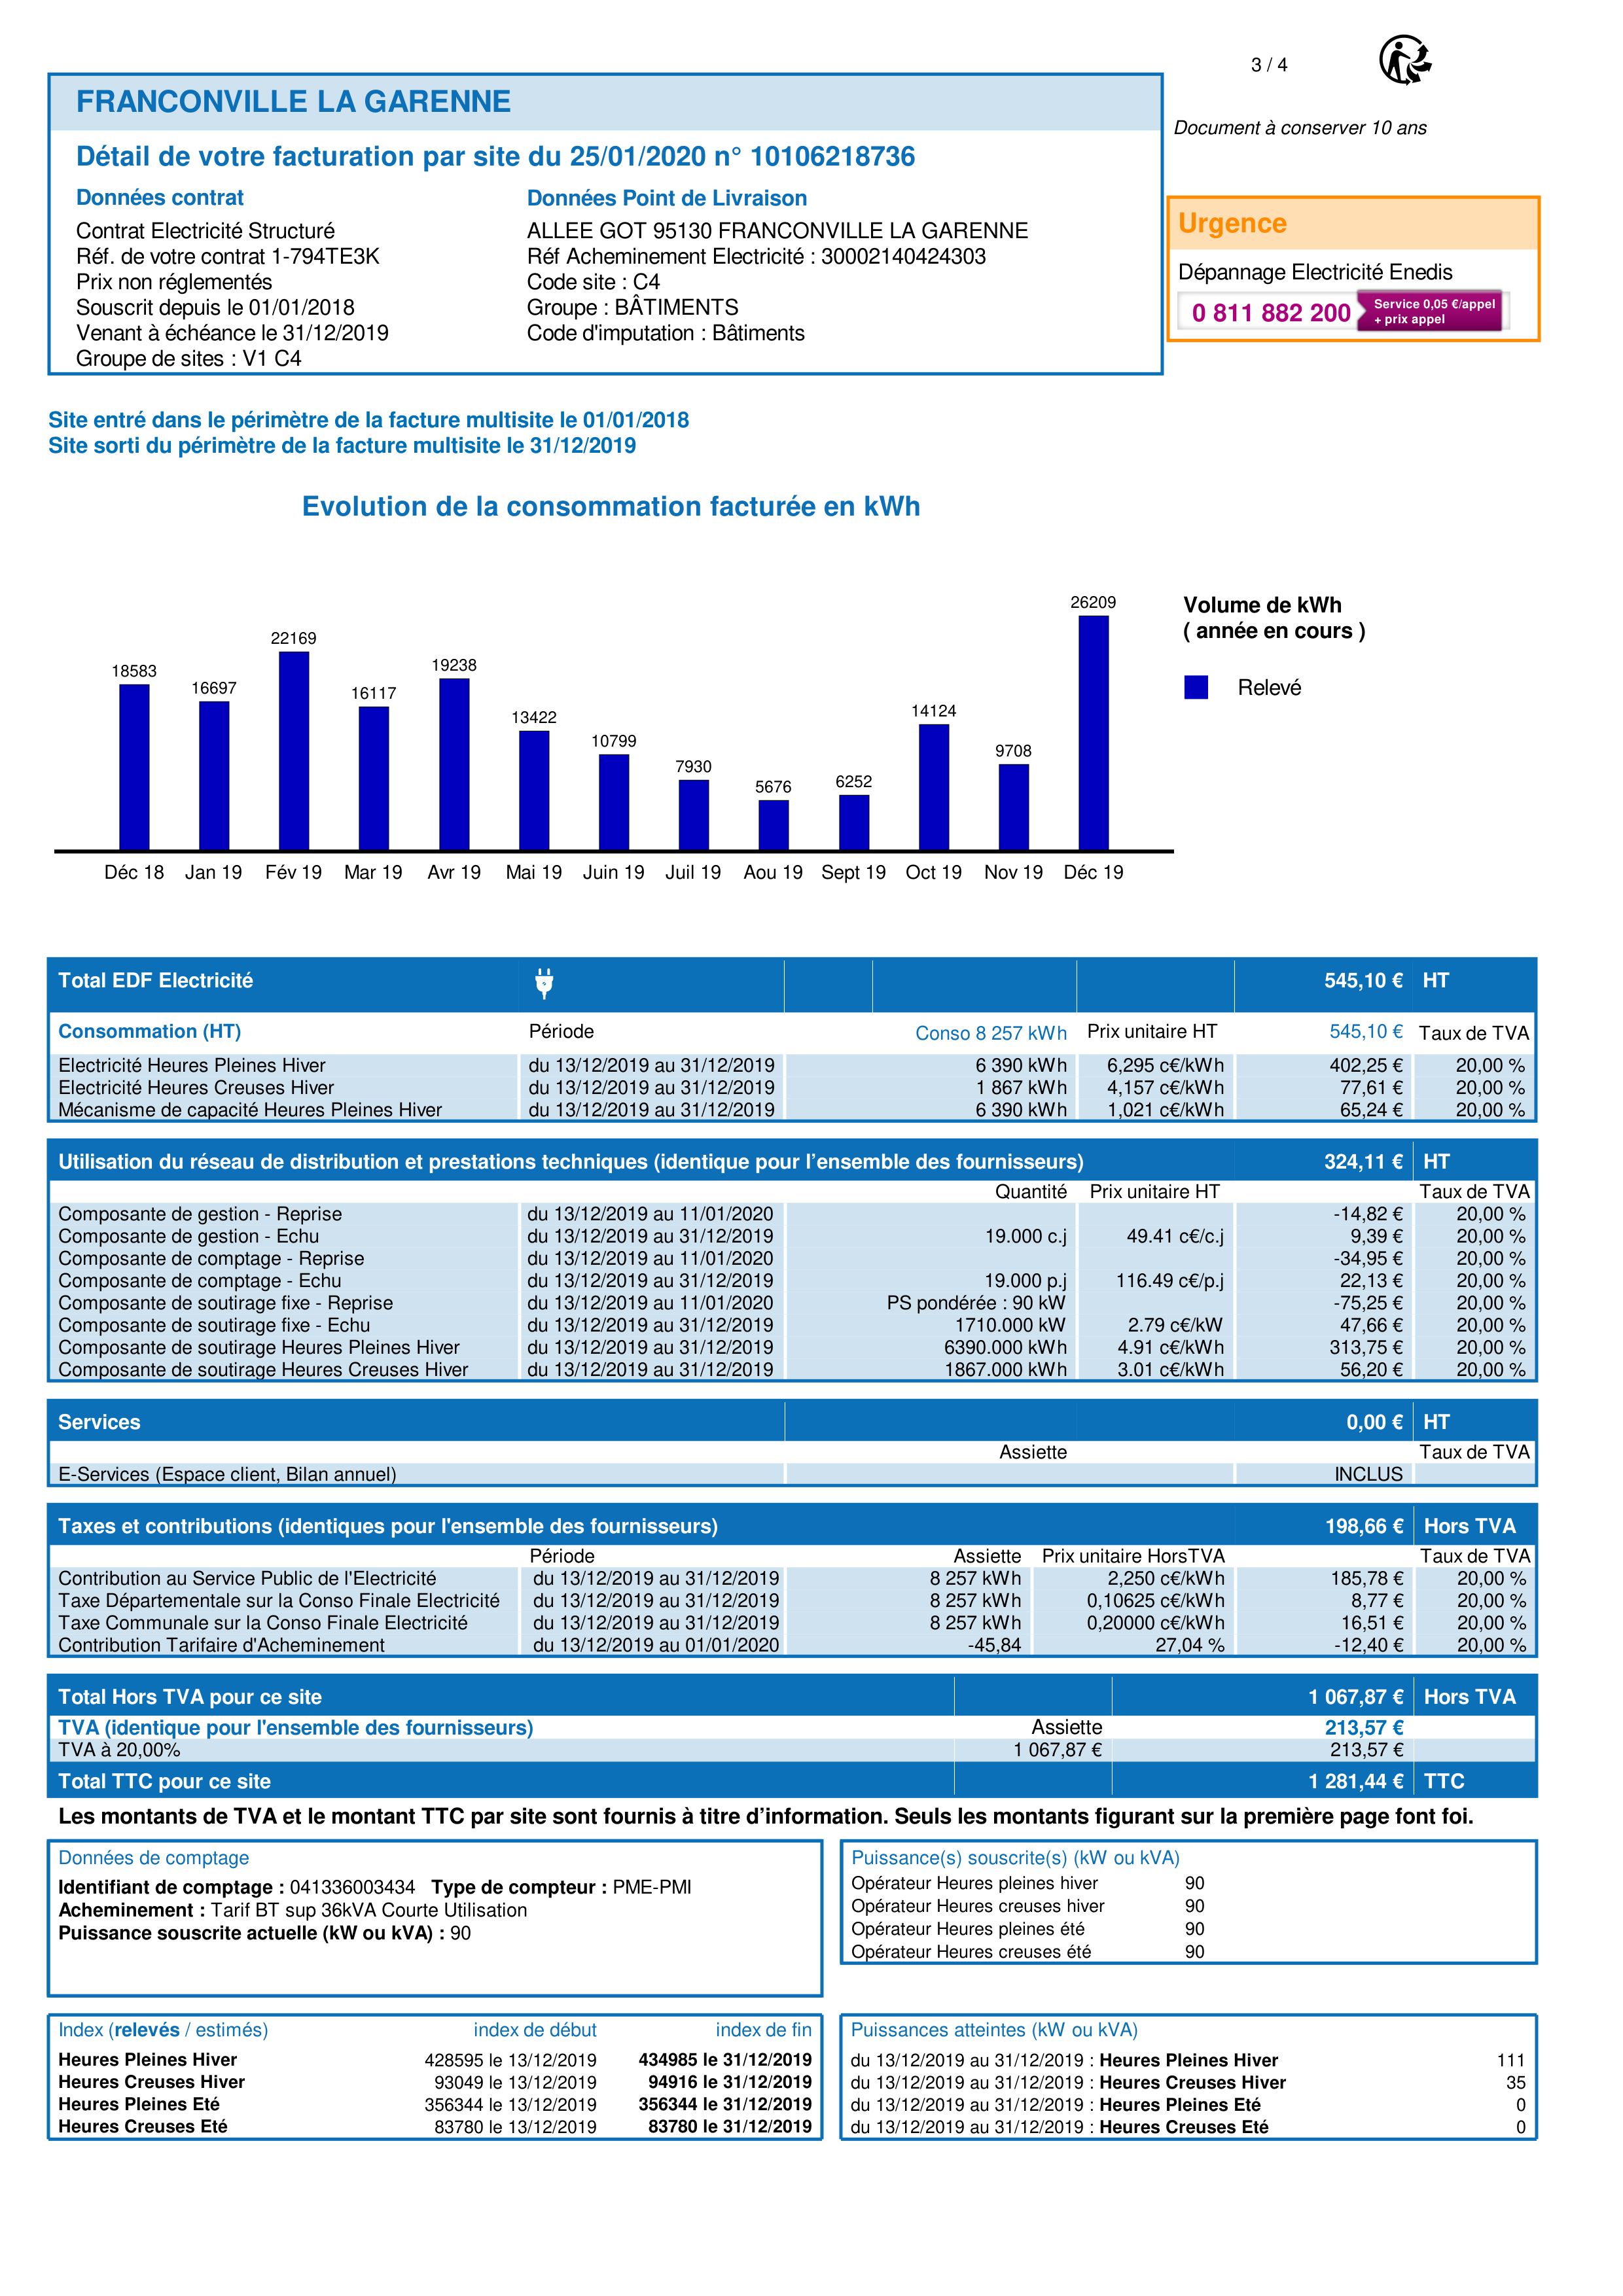area: (47, 2015, 821, 2140)
type_indicator: (47, 2015, 285, 2048)
